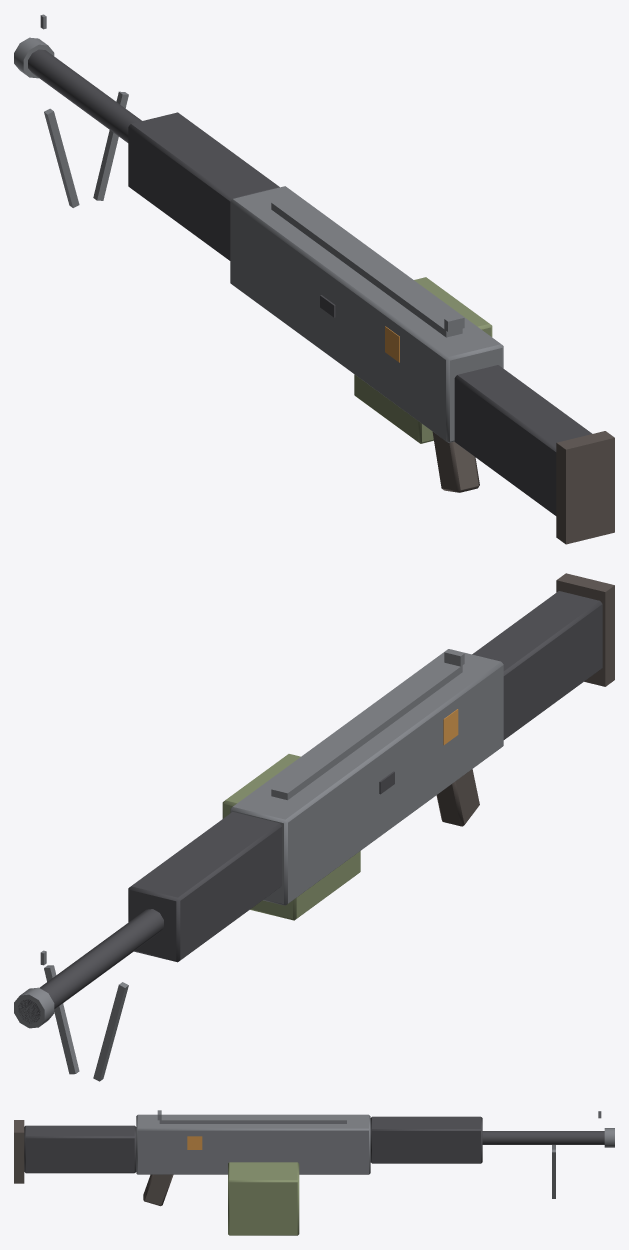
The model's file is anvil.glb.
The picture shows the model from 3 angles, top to bottom: view 1: azimuth 30°, elevation 25°; view 2: azimuth 150°, elevation 25°; view 3: azimuth 270°, elevation 25°; orthographic projection. The views are drawn at different scales.
Visible parts, largest first — view 1: wpn_anvil; view 2: wpn_anvil; view 3: wpn_anvil.
Part boxes in pixels (x1,y1,x2,y2): wpn_anvil: [14, 14, 614, 544]; wpn_anvil: [14, 573, 614, 1081]; wpn_anvil: [14, 1110, 614, 1235].
Size of what is drawn, in the model's own units: 0.1744 by 0.212 by 1.18.
